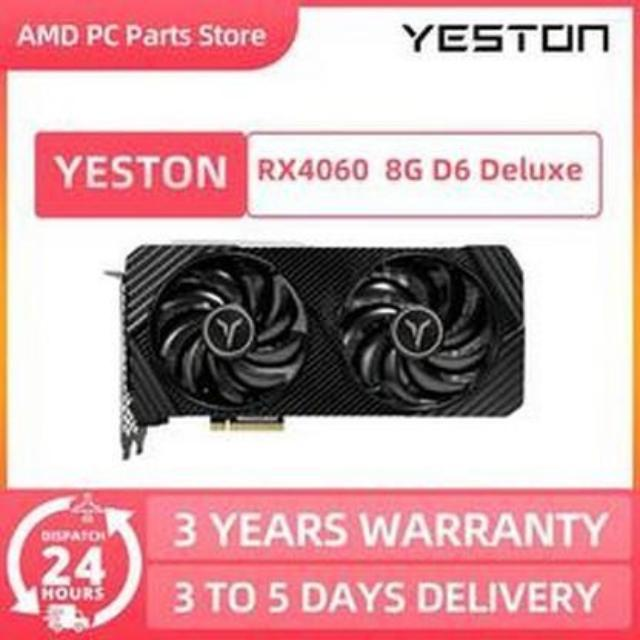GPU: (123, 239, 532, 433)
